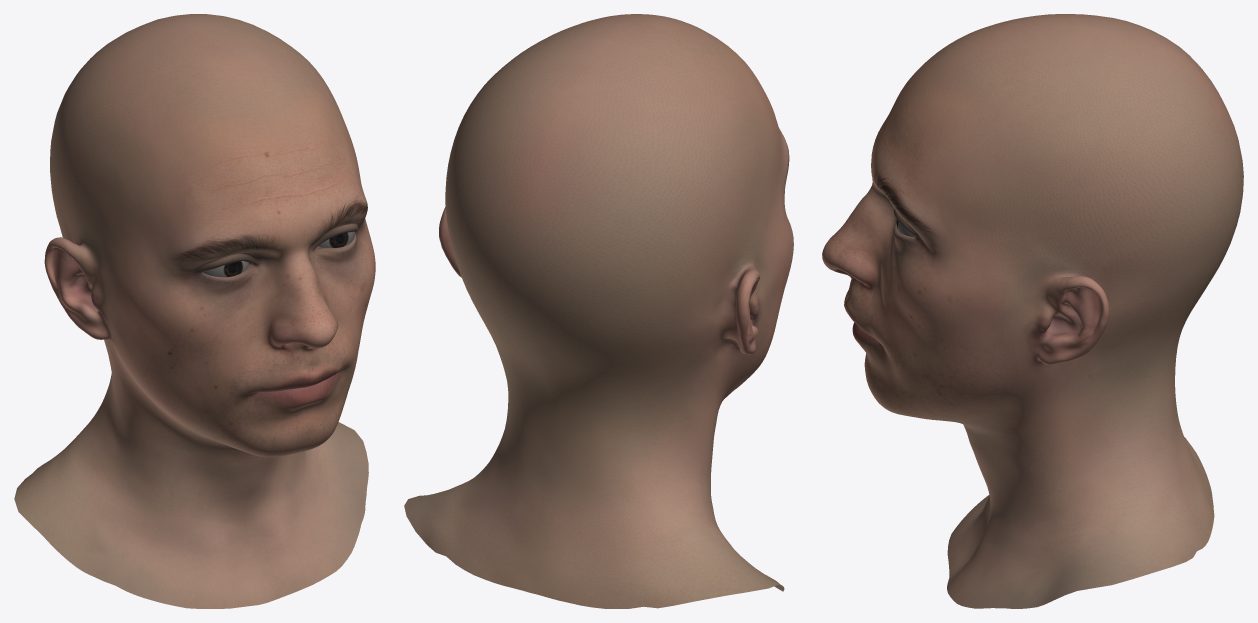
3 renders of one model, left to right at view 1: azimuth 30°, elevation 25°; view 2: azimuth 150°, elevation 25°; view 3: azimuth 270°, elevation 25°, orthographic. The views are drawn at different scales.
Visible parts, largest first — view 1: Registered head; view 2: Registered head; view 3: Registered head.
Boxes of the visible parts, box(x1,y1,x2,y2) form: Registered head: box(14, 14, 375, 608); Registered head: box(404, 14, 793, 608); Registered head: box(822, 14, 1243, 608).
Size of the model in its own units: 1.25 by 1.89 by 1.32.
3 materials, 3 textured.
